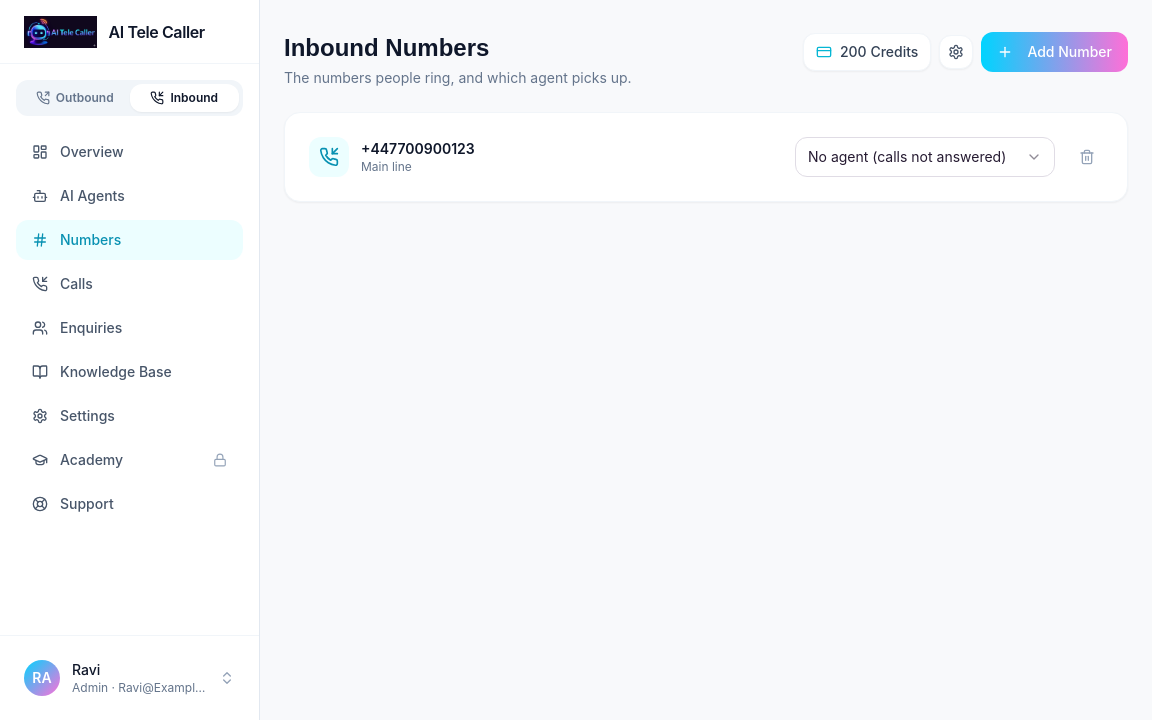
Scenario: the Add Number dialog › keeps Add disabled until a number is chosen
Click the button "Add Number" at x=1055, y=52, box [981,32,1128,72]
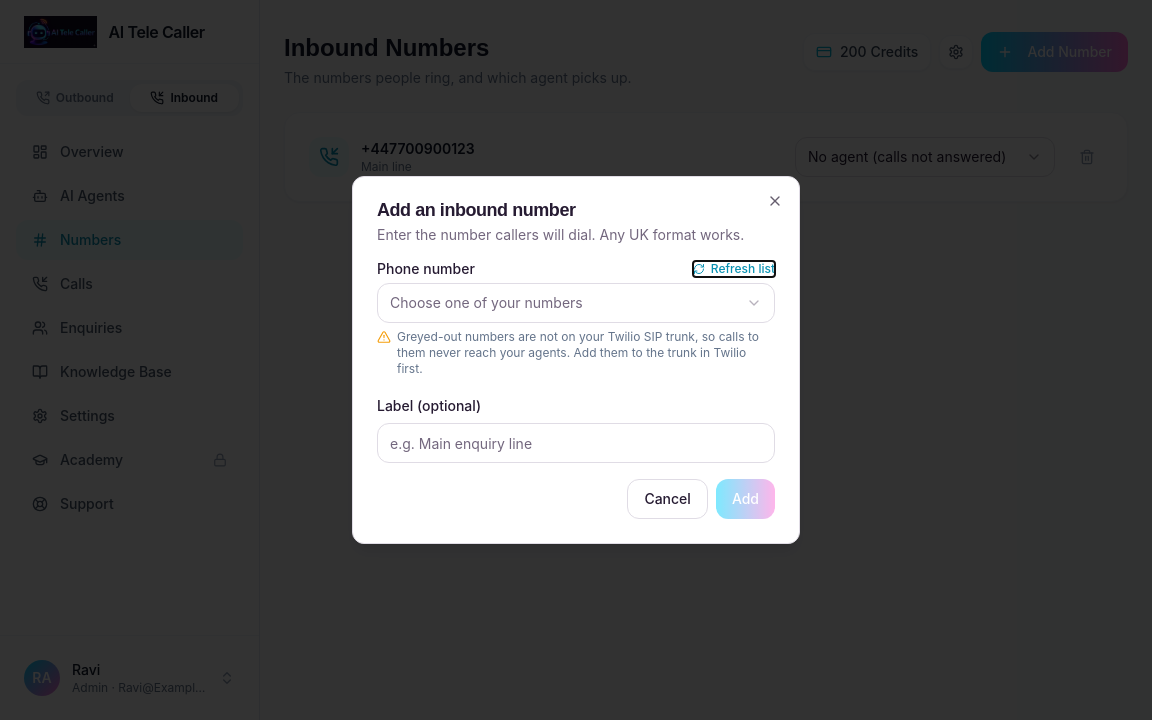
Expected: the button "Add" is disabled, [716,479,775,519]
Click the dropdown at x=576, y=303, box [377,283,775,323]
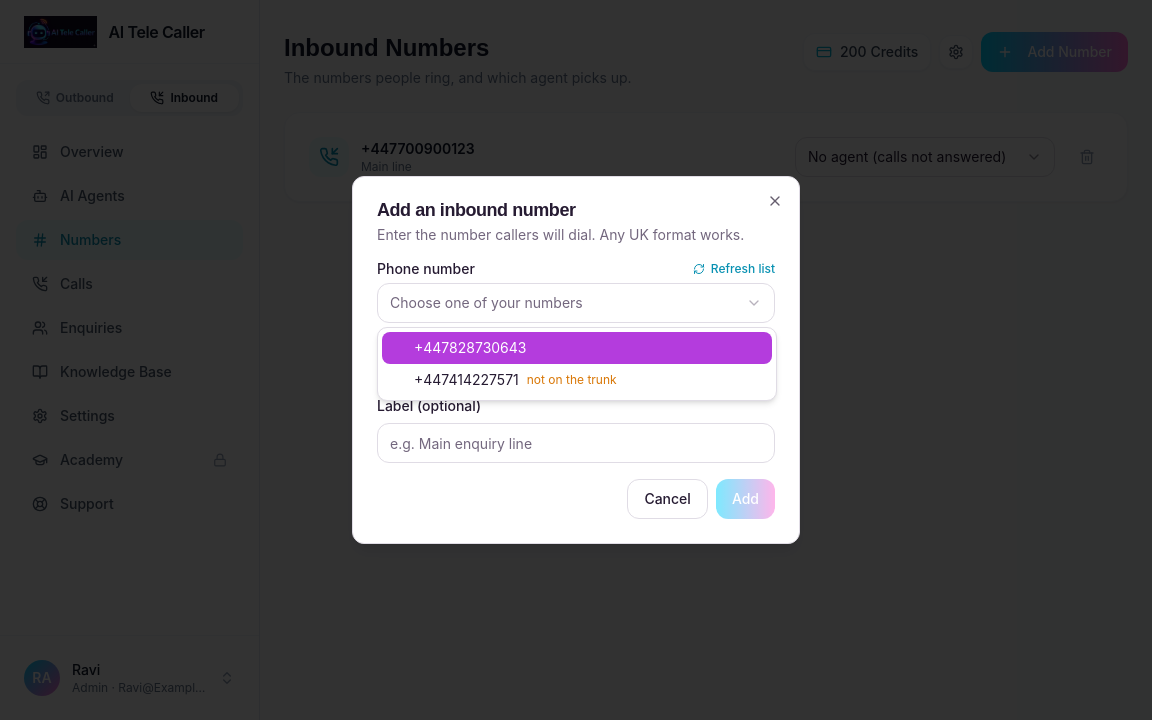
Click the option "+447828730643" at x=470, y=348, box [382,332,772,364]
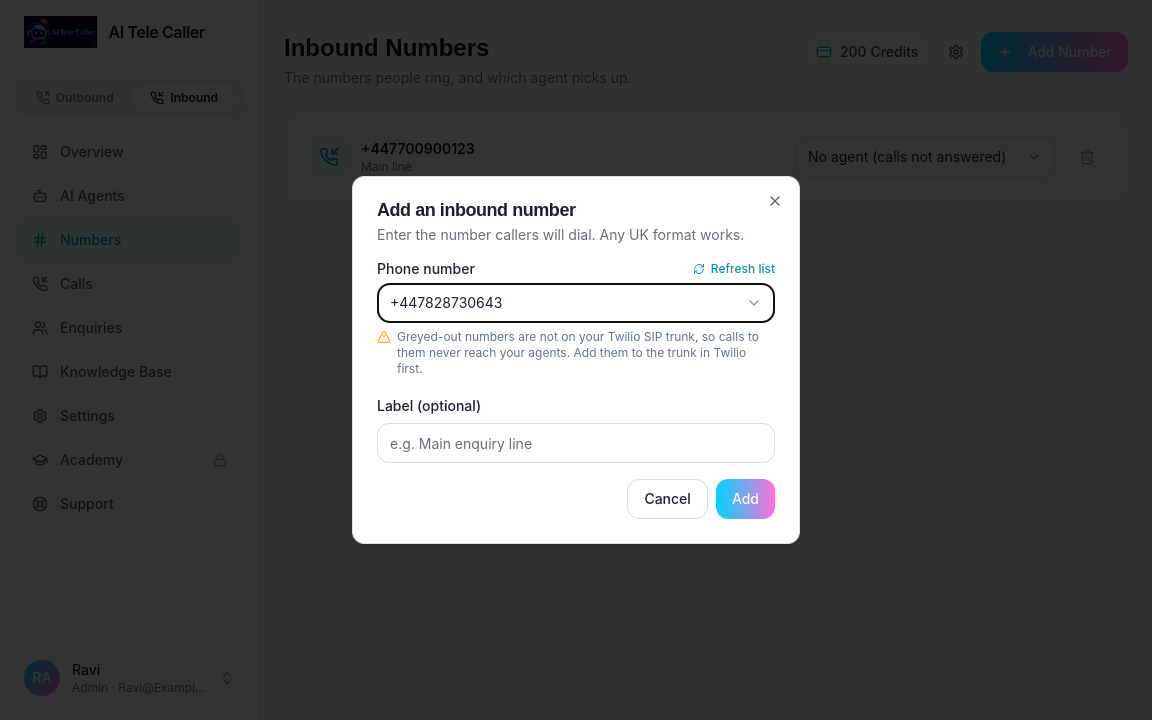
Expected: the button "Add" is enabled, [716,479,775,519]
